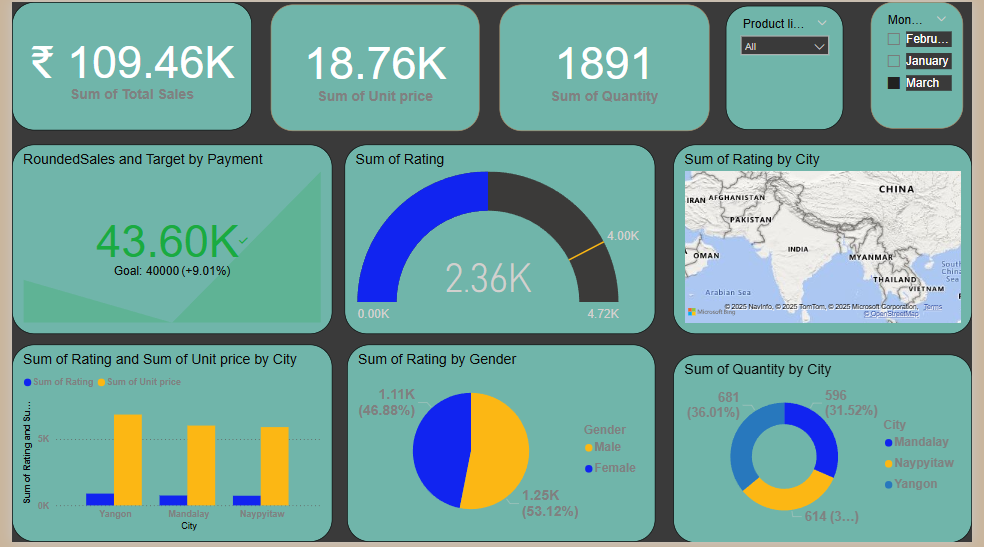

The page's visual inventory and layout, read from the dashboard file:
{"tool":"powerbi","page":{"name":"Page 1","canvas":[1280,720],"ordinal":0},"visuals":[{"type":"card","fields":{"Values":["Sum(1_Store_Dataset (1).Total Sales)"]},"box":[0,0,320.4,170.9],"z":0},{"type":"card","fields":{"Values":["Sum(1_Store_Dataset (1).Unit price)"]},"box":[345.7,2.9,278.6,168.6],"z":1000},{"type":"card","fields":{"Values":["Sum(1_Store_Dataset (1).Quantity)"]},"box":[650,2.9,280,168.6],"z":2000},{"type":"gauge","fields":{"Y":["Sum(1_Store_Dataset (1).Rating)"]},"box":[443.2,190.4,414.7,252.7],"z":3000},{"type":"filledMap","fields":{"Category":["1_Store_Dataset (1).City"]},"box":[881,190.4,398.7,252.7],"z":4000},{"type":"lineClusteredColumnComboChart","fields":{"Y":["Sum(1_Store_Dataset (1).Rating)","Sum(1_Store_Dataset (1).Unit price)"],"Category":["1_Store_Dataset (1).City"]},"box":[0,457.4,427.1,263.4],"z":5000},{"type":"pieChart","fields":{"Category":["1_Store_Dataset (1).Gender"],"Y":["Sum(1_Store_Dataset (1).Rating)"]},"box":[446.7,457.4,411.1,263.4],"z":6000},{"type":"donutChart","fields":{"Series":["1_Store_Dataset (1).City"],"Y":["Sum(1_Store_Dataset (1).Quantity)"]},"box":[881,469.9,398.7,250.9],"z":7000},{"type":"kpi","fields":{"Indicator":["Sum(1_Store_Dataset (1).Total Sales)","select","select1","select2","select3"],"TrendLine":["1_Store_Dataset (1).Payment"],"Goal":["1_Store_Dataset (1).Target"]},"box":[0,190.4,427.1,252.7],"z":8000},{"type":"slicer","fields":{"Values":["1_Store_Dataset (1).MonthName"]},"box":[1145.7,0,122.9,168.6],"z":8001},{"type":"slicer","fields":{"Values":["1_Store_Dataset (1).Product line"]},"box":[951.4,5.7,157.1,165.7],"z":8002}]}

Visuals, with their boxes in screenshot pixels (x1, y1, x2, y2), scaled from the page's 1280x720 canvas onto the 984x547 screenshot:
card - Sum(1_Store_Dataset (1).Total Sales): x1=0 y1=0 x2=246 y2=130
card - Sum(1_Store_Dataset (1).Unit price): x1=266 y1=2 x2=480 y2=130
card - Sum(1_Store_Dataset (1).Quantity): x1=500 y1=2 x2=715 y2=130
gauge - Sum(1_Store_Dataset (1).Rating): x1=341 y1=145 x2=660 y2=337
filledMap - 1_Store_Dataset (1).City: x1=677 y1=145 x2=983 y2=337
lineClusteredColumnComboChart - Sum(1_Store_Dataset (1).Rating) x Sum(1_Store_Dataset (1).Unit price): x1=0 y1=347 x2=328 y2=546
pieChart - 1_Store_Dataset (1).Gender x Sum(1_Store_Dataset (1).Rating): x1=343 y1=347 x2=659 y2=546
donutChart - 1_Store_Dataset (1).City x Sum(1_Store_Dataset (1).Quantity): x1=677 y1=357 x2=983 y2=546
kpi - Sum(1_Store_Dataset (1).Total Sales) x select: x1=0 y1=145 x2=328 y2=337
slicer - 1_Store_Dataset (1).MonthName: x1=881 y1=0 x2=975 y2=128
slicer - 1_Store_Dataset (1).Product line: x1=731 y1=4 x2=852 y2=130
